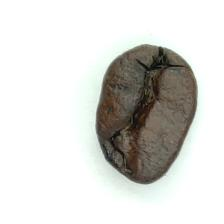NG: (97, 75, 168, 177)
